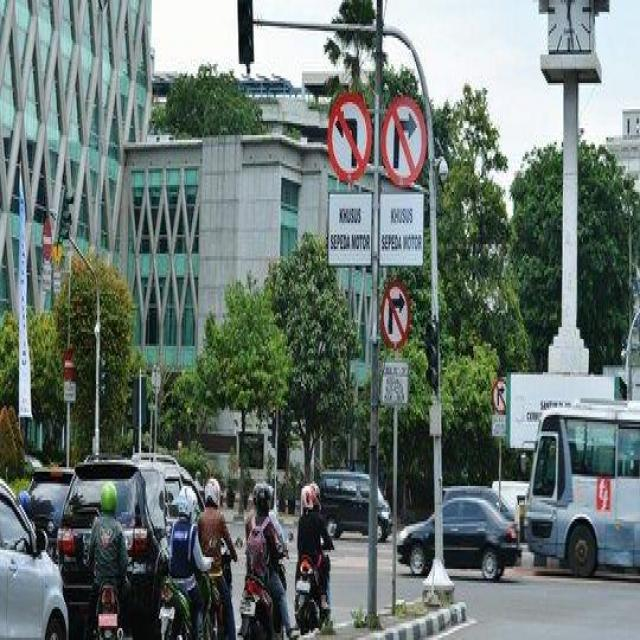traffic sign: (383, 100, 424, 188), (381, 282, 412, 348)
